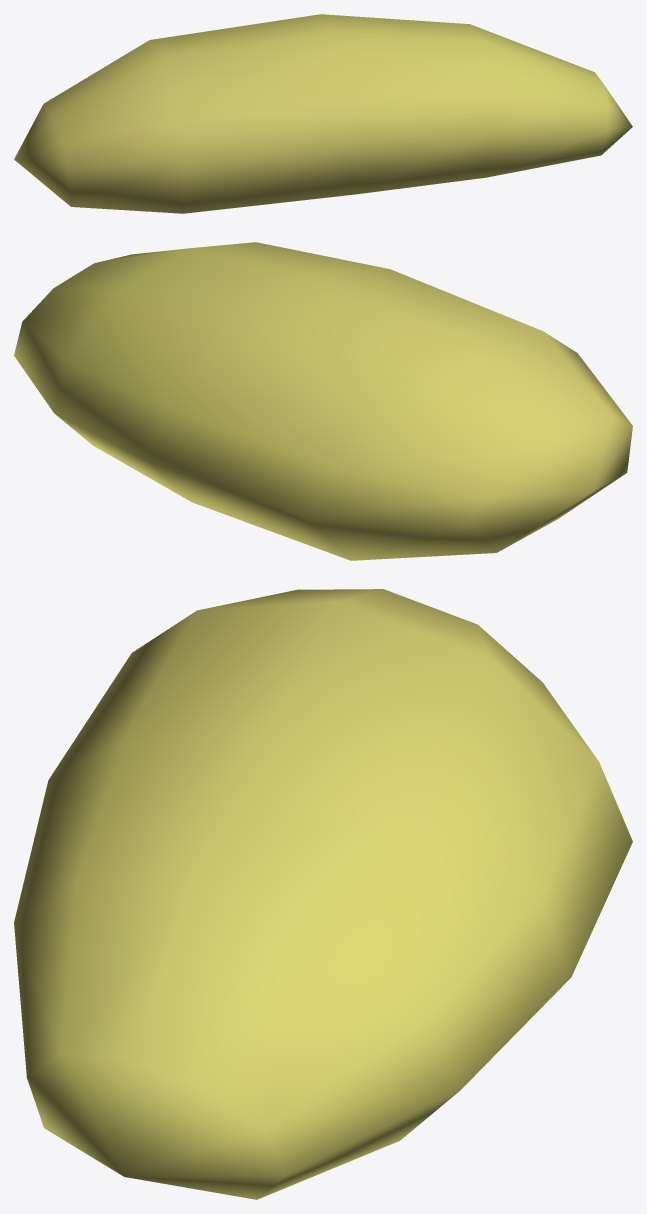
The model's file is PC_Man_Eyebrow001_L.glb.
3 views of the same model, one above another, from view 1: azimuth 30°, elevation 25°; view 2: azimuth 150°, elevation 25°; view 3: azimuth 270°, elevation 25° (orthographic). The views are drawn at different scales.
Visible parts, largest first — view 1: PC_Man_Eyebrow001_L_mesh; view 2: PC_Man_Eyebrow001_L_mesh; view 3: PC_Man_Eyebrow001_L_mesh.
Part boxes in pixels (x1=…): PC_Man_Eyebrow001_L_mesh: x1=14, y1=14, x2=632, y2=213; PC_Man_Eyebrow001_L_mesh: x1=14, y1=242, x2=632, y2=560; PC_Man_Eyebrow001_L_mesh: x1=14, y1=589, x2=632, y2=1199.
Size of the model in its own units: 0.1478 by 0.0417 by 0.0826.
Materials: 1 (1 with a texture image).
